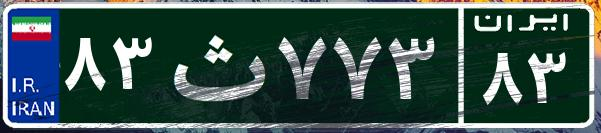3: (385, 28, 445, 110), (110, 28, 158, 105), (525, 38, 570, 115)
7: (273, 28, 330, 110), (330, 28, 385, 110)
8: (57, 26, 110, 107), (475, 38, 525, 113)
ث: (158, 15, 273, 115)
